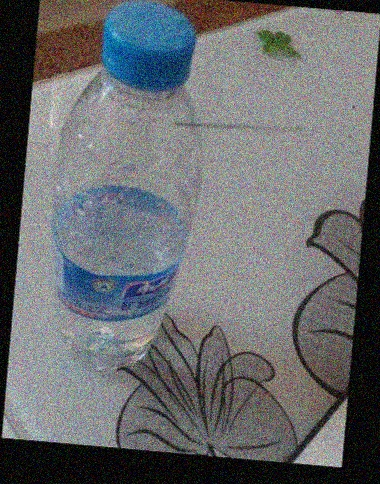bottle: (40, 60, 207, 470)
